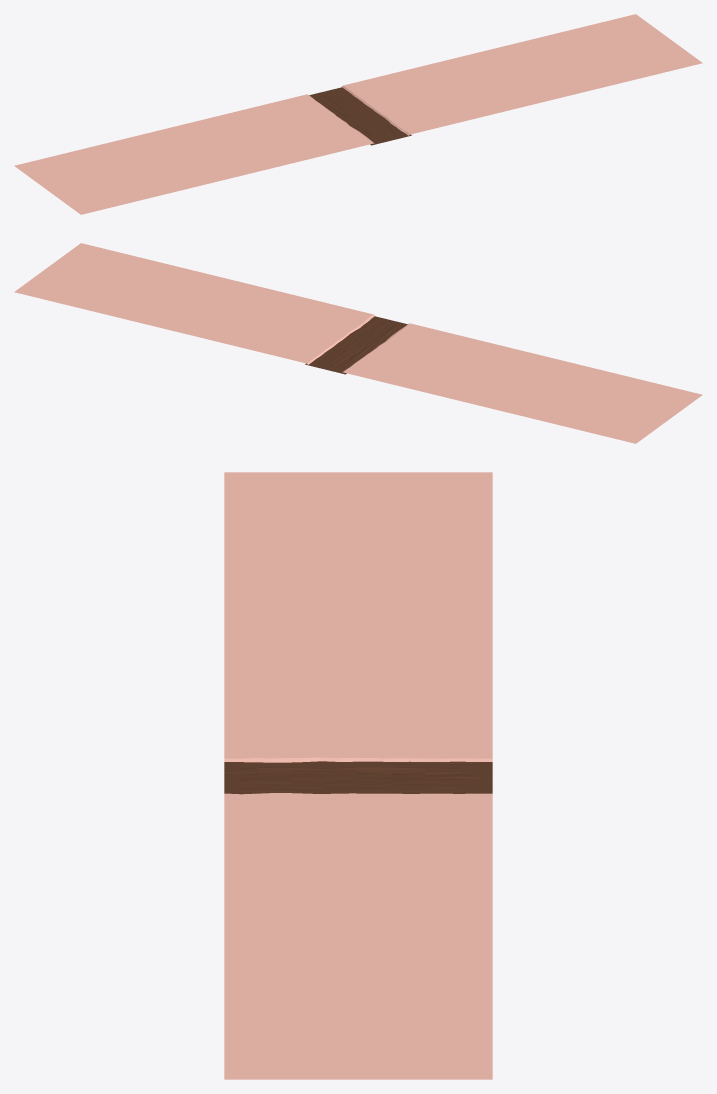
File: Terrain.002.fbx
The picture shows the model from 3 angles, top to bottom: view 1: azimuth 30°, elevation 25°; view 2: azimuth 150°, elevation 25°; view 3: azimuth 270°, elevation 25°; orthographic projection. The views are drawn at different scales.
Parts seen in each view (by area): view 1: Ground.002; view 2: Ground.002; view 3: Ground.002.
Part boxes in pixels (x1,y1,x2,y2): Ground.002: [14, 14, 702, 214]; Ground.002: [14, 243, 702, 443]; Ground.002: [224, 472, 492, 1079].
Size of the model in its own units: 32122 by 109 by 6000.
2 materials, 2 textured.
